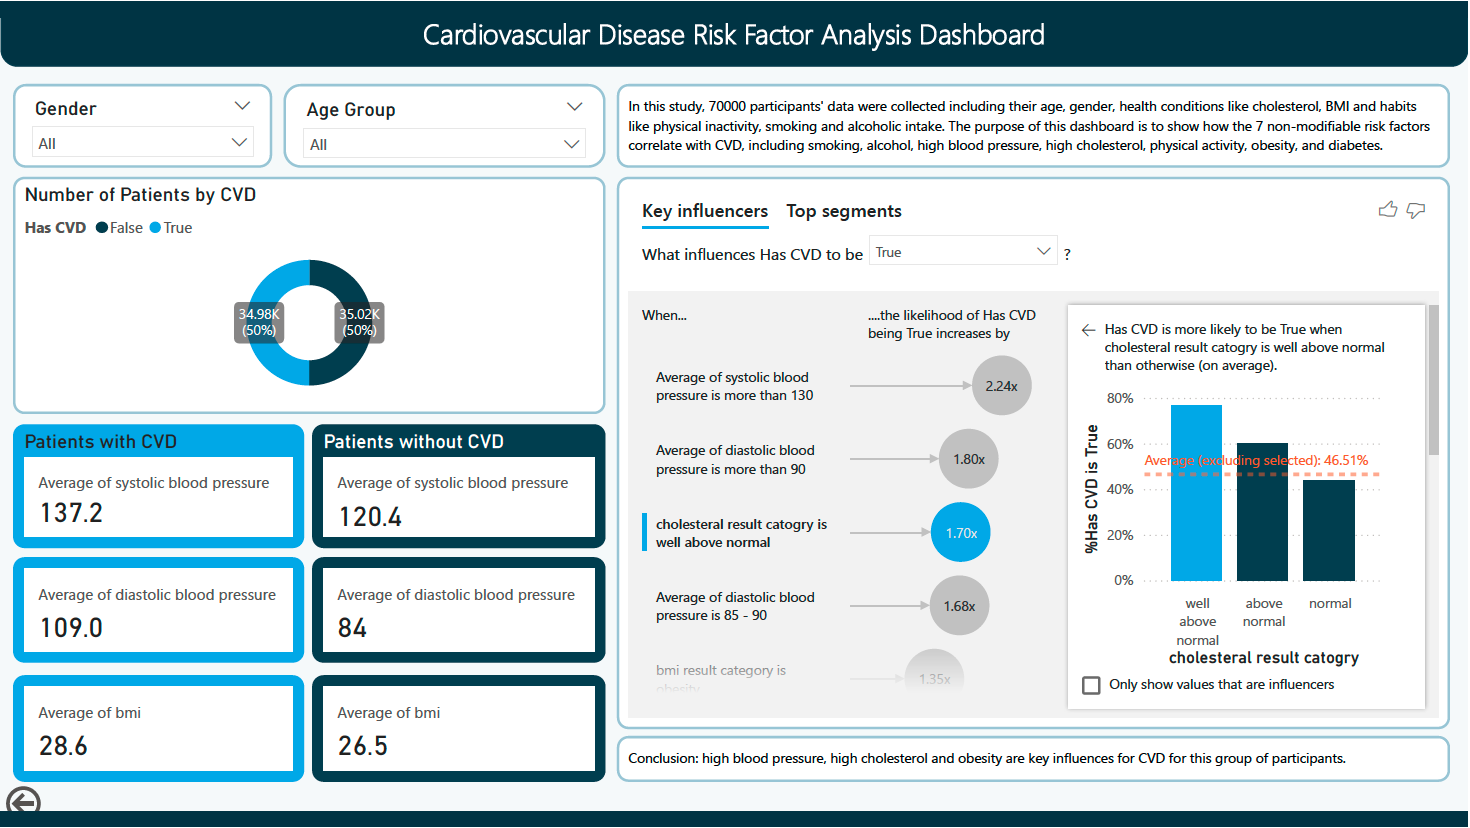

The page's visual inventory and layout, read from the dashboard file:
{"tool":"powerbi","page":{"name":"CVD Risk Factor","canvas":[1280,720],"ordinal":0},"visuals":[{"type":"textbox","box":[538.2,71.8,726.4,73.6],"z":0},{"type":"actionButton","box":[0,680,100,40],"z":1000},{"type":"keyDriversVisual","fields":{"Target":["Cardiovascular Disease.disease_presence"],"ExplainBy":["Cardiovascular Disease.physical_activity","Cardiovascular Disease.smoking","Cardiovascular Disease.alcohol_intake","Cardiovascular Disease.cholesteral_result_catogry","Cardiovascular Disease.glucose_result_category","Cardiovascular Disease.bmi_result_category","Avg(Cardiovascular Disease.systolic_blood_pressure)","Avg(Cardiovascular Disease.diastolic_blood_pressure)"]},"box":[538.2,152.7,726.4,481.8],"z":2000},{"type":"textbox","box":[0,0,1280.5,56.5],"z":3000},{"type":"shape","box":[0,0,1279.9,14.2],"z":4000},{"type":"slicer","fields":{"Values":["Cardiovascular Disease.gender_type"]},"box":[10.9,71.8,226.4,73.6],"z":5000},{"type":"slicer","fields":{"Values":["Cardiovascular Disease.age group"]},"box":[247.3,71.8,280.9,73.6],"z":6000},{"type":"donutChart","title":"Number of Patients by CVD","fields":{"Category":["Cardiovascular Disease.disease_presence"],"Y":["Count(Cardiovascular Disease.Patient ID)"]},"box":[10.9,152.7,517.3,207.3],"z":7000},{"type":"cardVisual","title":"Patients with CVD","fields":{"Data":["Avg(Cardiovascular Disease.systolic blood pressure)"]},"box":[10.9,369.1,253.6,108.2],"z":8000},{"type":"cardVisual","title":"Patients without CVD","fields":{"Data":["Avg(Cardiovascular Disease.systolic blood pressure)"]},"box":[271.8,369.1,256.4,108.2],"z":9000},{"type":"cardVisual","title":"Patients with CVD","fields":{"Data":["Avg(Cardiovascular Disease.diastolic blood pressure)"]},"box":[10.9,484.5,253.6,92.7],"z":10000},{"type":"cardVisual","title":"Patients without CVD","fields":{"Data":["Avg(Cardiovascular Disease.diastolic blood pressure)"]},"box":[271.8,484.5,256.4,92.7],"z":11000},{"type":"cardVisual","title":"Patients with CVD","fields":{"Data":["Avg(Cardiovascular Disease.bmi)"]},"box":[10.9,588.2,253.6,92.7],"z":12000},{"type":"cardVisual","title":"Patients without CVD","fields":{"Data":["Avg(Cardiovascular Disease.bmi)"]},"box":[271.8,588.2,256.4,92.7],"z":13000},{"type":"shape","box":[0,707.5,1280,12.4],"z":14000},{"type":"textbox","box":[538.2,640.9,726.4,40],"z":15000}]}

Visuals, with their boxes in screenshot pixels (x1, y1, x2, y2), scaled from the page's 1280x720 canvas onto the 1470x828 screenshot:
textbox: [left=618, top=83, right=1452, bottom=167]
actionButton: [left=0, top=782, right=115, bottom=827]
keyDriversVisual - Cardiovascular Disease.disease_presence x Cardiovascular Disease.physical_activity: [left=618, top=176, right=1452, bottom=730]
textbox: [left=0, top=0, right=1469, bottom=65]
shape: [left=0, top=0, right=1469, bottom=16]
slicer - Cardiovascular Disease.gender_type: [left=13, top=83, right=273, bottom=167]
slicer - Cardiovascular Disease.age group: [left=284, top=83, right=607, bottom=167]
"Number of Patients by CVD" donutChart: [left=13, top=176, right=607, bottom=414]
"Patients with CVD" cardVisual: [left=13, top=424, right=304, bottom=549]
"Patients without CVD" cardVisual: [left=312, top=424, right=607, bottom=549]
"Patients with CVD" cardVisual: [left=13, top=557, right=304, bottom=664]
"Patients without CVD" cardVisual: [left=312, top=557, right=607, bottom=664]
"Patients with CVD" cardVisual: [left=13, top=676, right=304, bottom=783]
"Patients without CVD" cardVisual: [left=312, top=676, right=607, bottom=783]
shape: [left=0, top=814, right=1469, bottom=827]
textbox: [left=618, top=737, right=1452, bottom=783]
